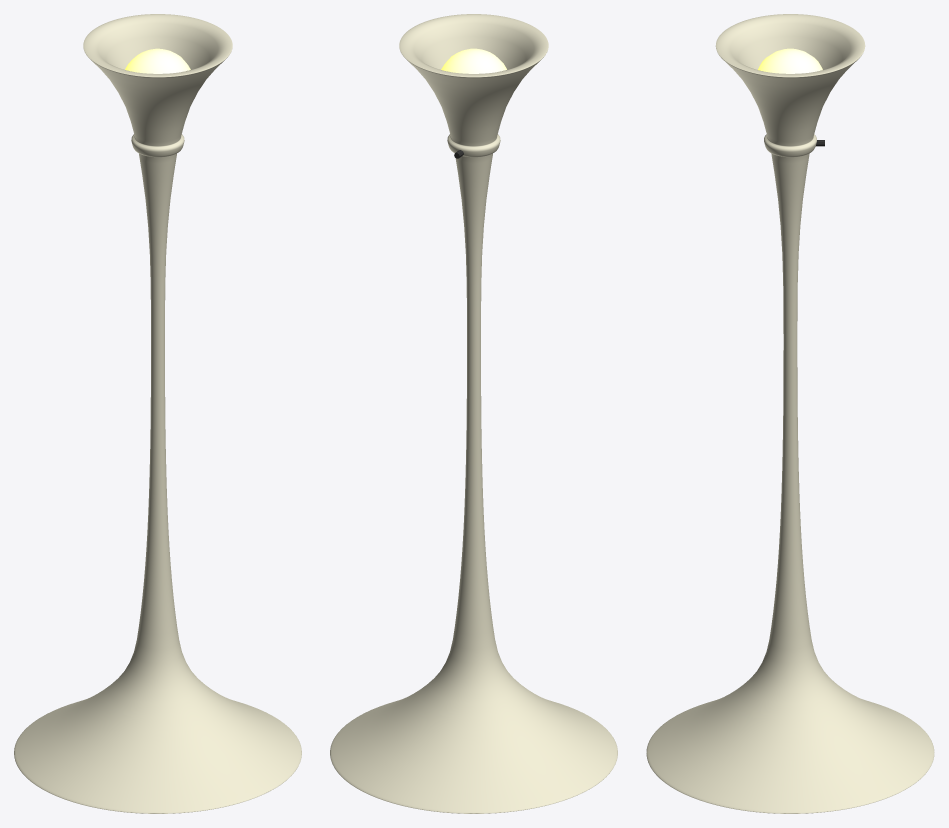
The model's file is FloorLamp.fbx.
3 renders of one model, left to right at view 1: azimuth 30°, elevation 25°; view 2: azimuth 150°, elevation 25°; view 3: azimuth 270°, elevation 25°, orthographic.
Visible parts, largest first — view 1: TableBase, Bulb; view 2: TableBase, Bulb; view 3: TableBase, Bulb.
Boxes of the visible parts, bbox=[...] form: TableBase: bbox=[14, 14, 301, 813]; Bulb: bbox=[125, 48, 190, 73]; TableBase: bbox=[330, 14, 617, 813]; Bulb: bbox=[441, 48, 506, 73]; TableBase: bbox=[646, 14, 934, 813]; Bulb: bbox=[758, 48, 822, 73].
Size of the model in its own units: 2.36 by 6.4 by 2.36.
